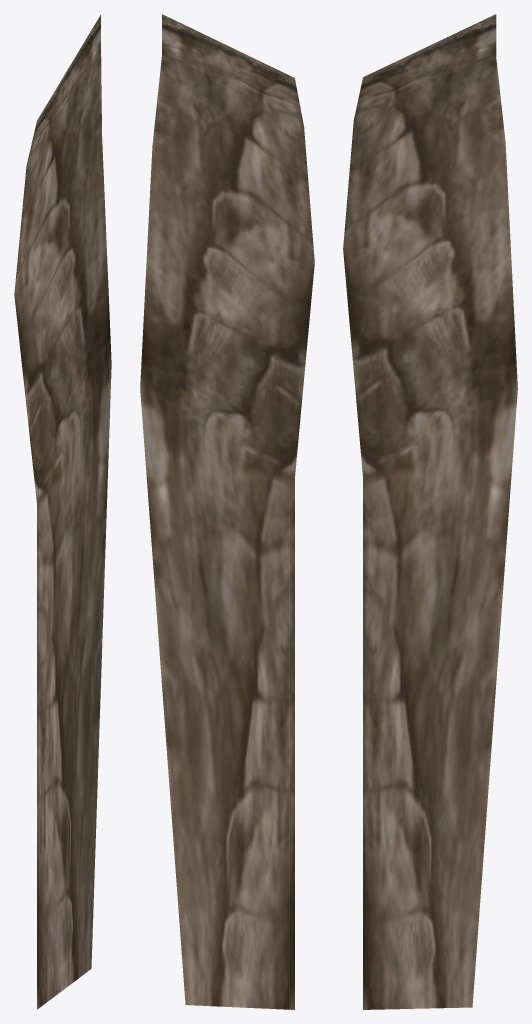
The model's file is OVERHILL_A_01_LINE71.fbx.
3 views of the same model, side by side, from view 1: azimuth 30°, elevation 25°; view 2: azimuth 150°, elevation 25°; view 3: azimuth 330°, elevation 25° (orthographic). The views are drawn at different scales.
Parts seen in each view (by area): view 1: OVERHILL_A_01_LINE71; view 2: OVERHILL_A_01_LINE71; view 3: OVERHILL_A_01_LINE71.
Boxes of the visible parts, <box> form: OVERHILL_A_01_LINE71: <box>14,15,111,1009</box>; OVERHILL_A_01_LINE71: <box>140,14,314,1009</box>; OVERHILL_A_01_LINE71: <box>343,14,517,1009</box>.
Bounding box in the file's own units: 24762 × 170277 × 11837.
2 materials, 2 textured.
